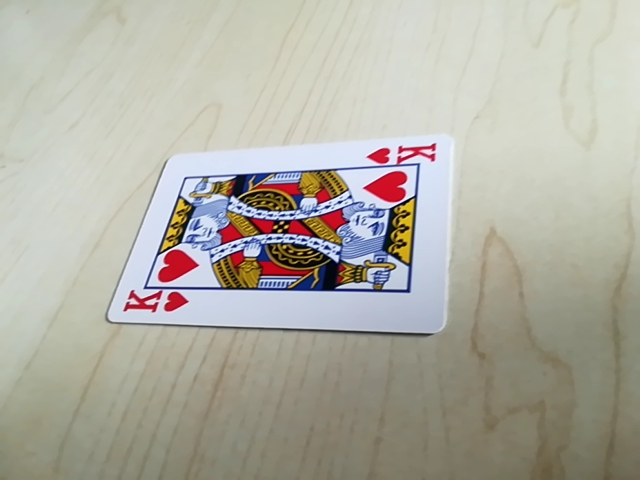hx k: (366, 140, 445, 170), (119, 289, 192, 321)
